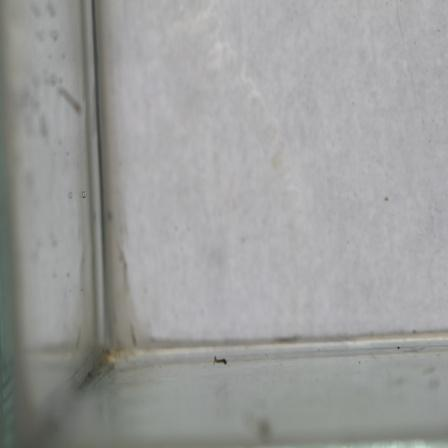Jentik-Nyamuk: (211, 352, 231, 370)
